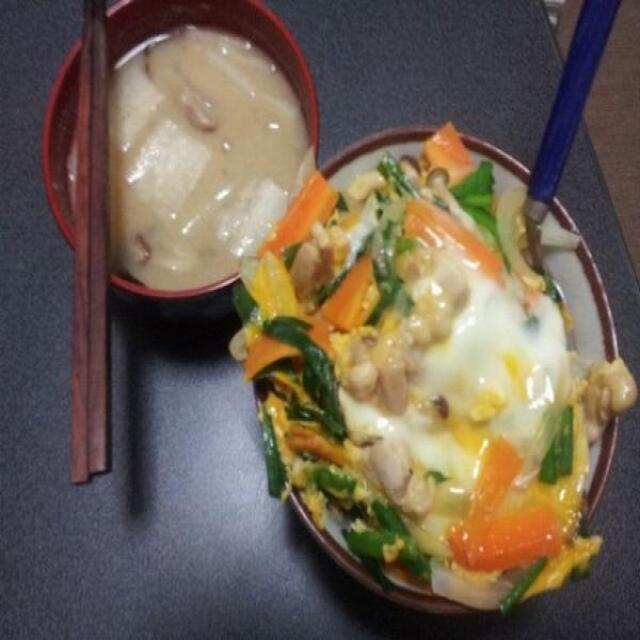蔬菜料理: (39, 0, 349, 294)
